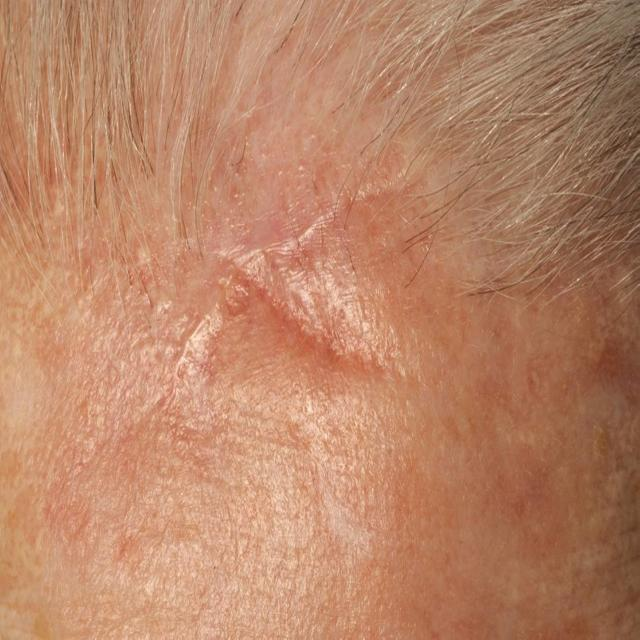wound: (172, 196, 408, 424)
